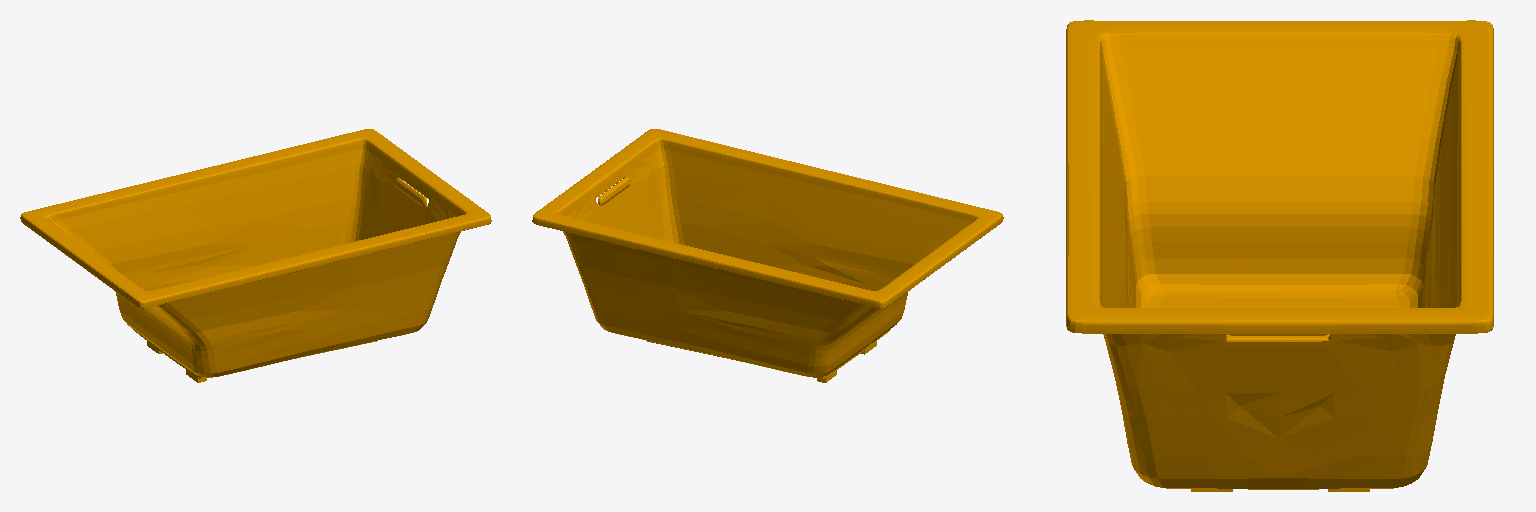
URDF robot description (e34833b19879020d54d7082b34825ef0):
<?xml version="1.0" ?>
<robot name="e34833b19879020d54d7082b34825ef0" version="1.0">
  <link name="base_link">
    <inertial>
      <origin rpy="0.0 0.0 0.0" xyz="0.0 0.0 0.0"/>
      <mass value="0.0"/>
      <inertia ixx="0.001" ixy="0.0" ixz="0.0" iyy="0.001" iyz="0.0" izz="0.001"/>
    </inertial>
    <visual name="e34833b19879020d54d7082b34825ef0___1">
      <origin rpy="0.0 0.0 0.0" xyz="0.0 -0.0 0.0"/>
      <geometry>
        <mesh filename="shape/visual/e34833b19879020d54d7082b34825ef0_m1_vm.obj"/>
      </geometry>
    </visual>
    <collision>
      <origin rpy="0.0 0.0 0.0" xyz="0.0 -0.0 0.0"/>
      <geometry>
        <mesh filename="shape/collision/e34833b19879020d54d7082b34825ef0_cm.obj"/>
      </geometry>
    </collision>
  </link>
</robot>

--- Facts derived from the render (not from the file) ---
3 views of the same robot in one strip: view 1: azimuth 30°, elevation 25°; view 2: azimuth 150°, elevation 25°; view 3: azimuth 270°, elevation 25° (orthographic).
Robot: e34833b19879020d54d7082b34825ef0 — 1 links, 0 joints (none); root link base_link; default pose: all joints at 0.
Visible links, largest first — view 1: base_link; view 2: base_link; view 3: base_link.
Link boxes in pixels (<box>): base_link: <box>20,129,491,382</box>; base_link: <box>532,129,1003,382</box>; base_link: <box>1066,20,1493,491</box>.
Bounding box of the posed robot: 0.8217 × 0.492 × 0.2876 m (x, y, z).
Meshes: 1 distinct files referenced, 1 mesh visuals loaded (1 OBJ).
